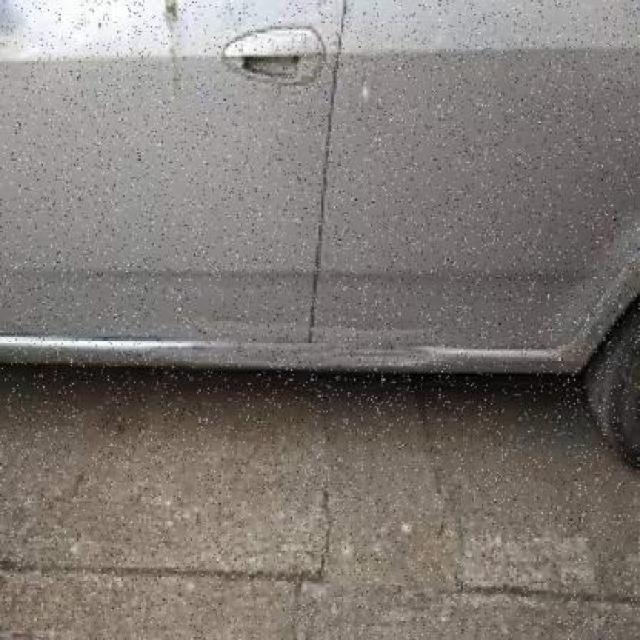RunningBoard-Dent: (105, 336, 456, 386)
doorouter-dent: (317, 0, 638, 343), (3, 0, 320, 343)
